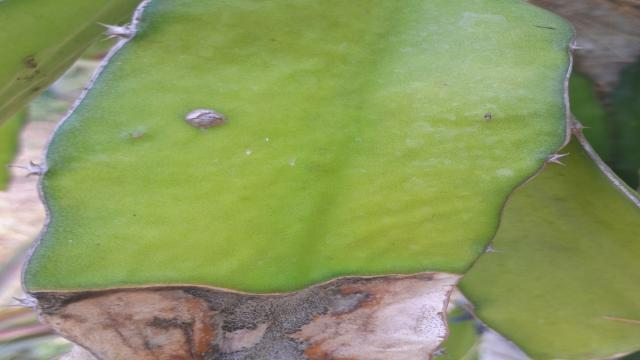stemcanker: (475, 103, 504, 126)
